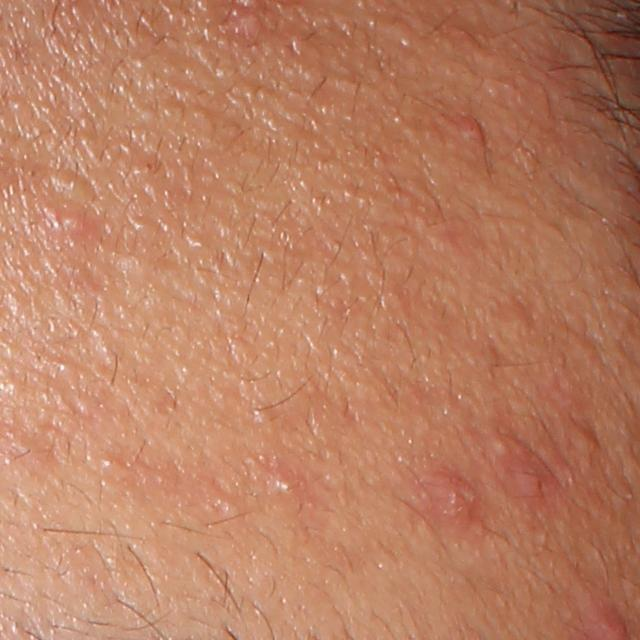comedo: (215, 490, 241, 519), (98, 450, 127, 471)
papule: (425, 465, 483, 529), (507, 444, 549, 499), (455, 111, 486, 155), (58, 207, 96, 238), (568, 422, 602, 454)
